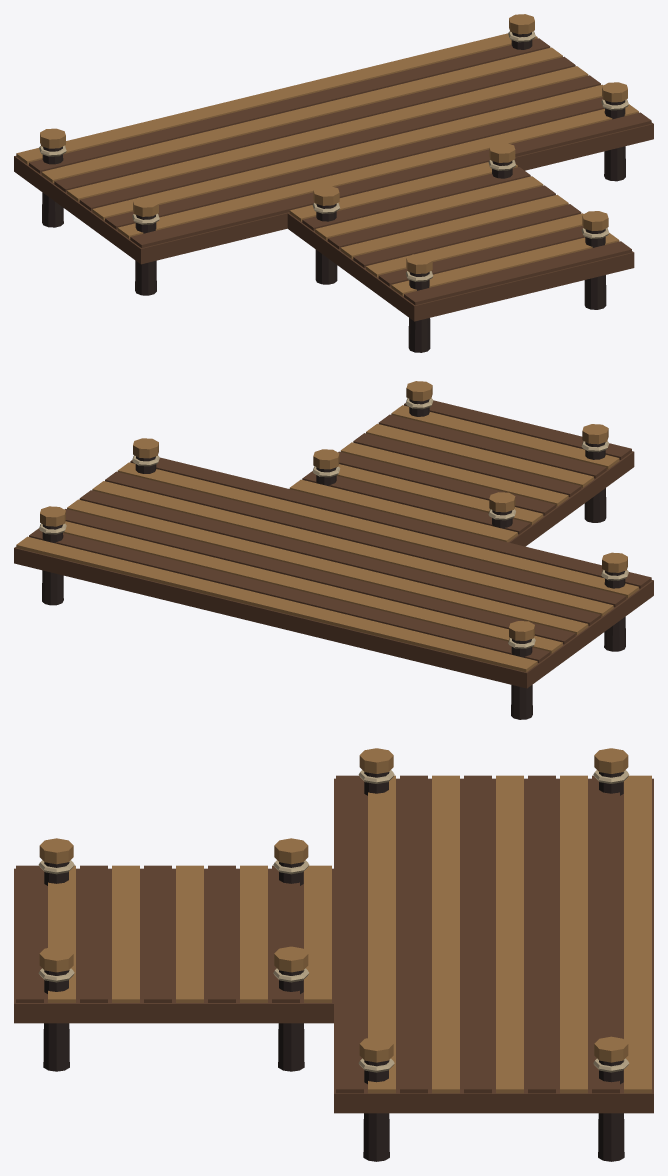
File: PirateCove_DockT_Showcase.glb
The picture shows the model from 3 angles, top to bottom: view 1: azimuth 30°, elevation 25°; view 2: azimuth 150°, elevation 25°; view 3: azimuth 270°, elevation 25°; orthographic projection. The views are drawn at different scales.
Parts seen in each view (by area): view 1: PirateCove_DockT_Showcase; view 2: PirateCove_DockT_Showcase; view 3: PirateCove_DockT_Showcase.
Boxes of the visible parts, x1,y1,x2,y2 form: PirateCove_DockT_Showcase: (14,14,653,352); PirateCove_DockT_Showcase: (14,381,653,719); PirateCove_DockT_Showcase: (14,748,653,1161).
Bounding box in the file's own units: 7 × 1.16 × 6.
